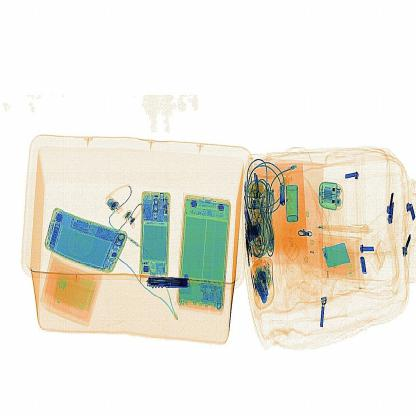scissors: (140, 268, 198, 298)
